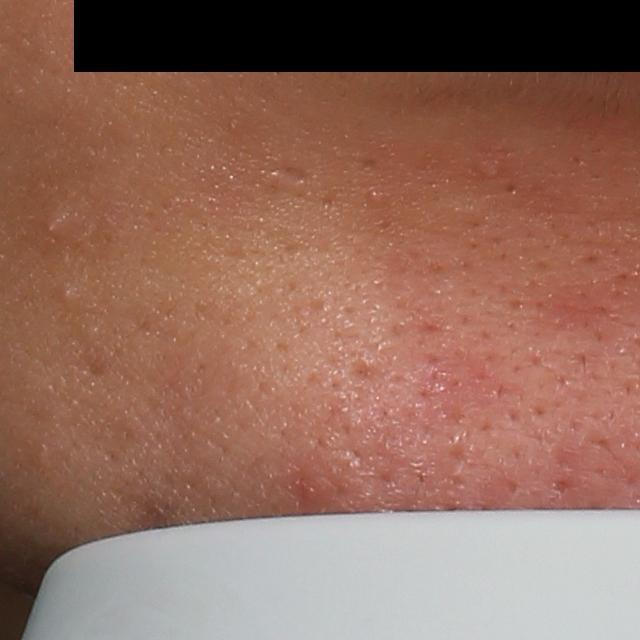atrophic_scar: (344, 360, 388, 388), (275, 162, 312, 186)
comedo: (42, 212, 66, 242), (60, 283, 78, 306), (501, 180, 521, 200), (368, 187, 388, 206)
